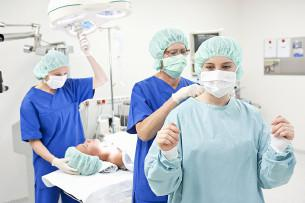NONE: (76, 140, 103, 155)
OK: (201, 60, 237, 96), (162, 47, 190, 79), (45, 69, 68, 91)
